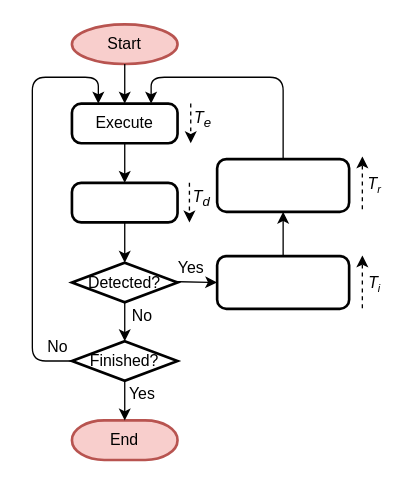
This 417x483 diagram has some shape labels left out. Here are the shapes that lost their labels. From the top down, the centre of each, then its label:
At point 124,202: "Detect".
At point 282,185: "Remove Affected Sub-Systems".
At point 282,282: "Isolate Affected Sub-Systems".
